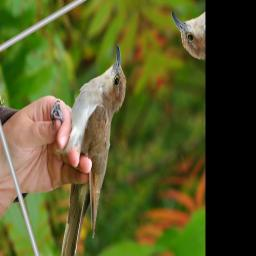Cuckoo: (8, 41, 179, 256)
